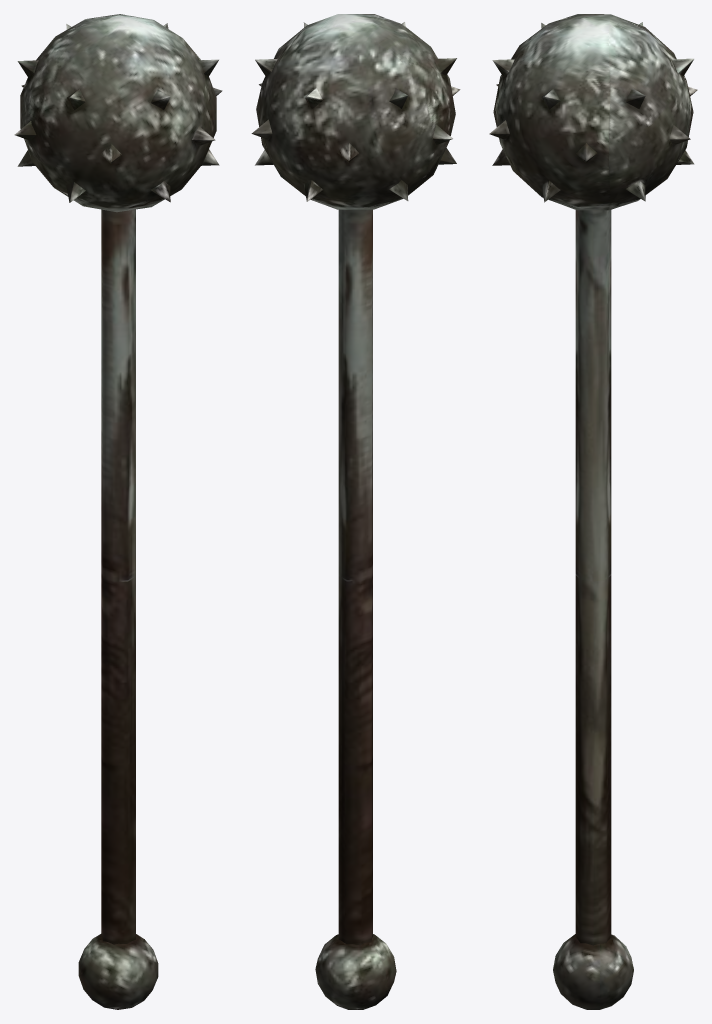
Rendered from weapon-evening-star.glb.
The picture shows the model from 3 angles, left to right: view 1: azimuth 30°, elevation 25°; view 2: azimuth 150°, elevation 25°; view 3: azimuth 270°, elevation 25°; orthographic projection.
Parts seen in each view (by area): view 1: babyKnightRisenClub_MDL_q; view 2: babyKnightRisenClub_MDL_q; view 3: babyKnightRisenClub_MDL_q.
Part boxes in pixels (x1,y1,x2,y2): babyKnightRisenClub_MDL_q: [14, 14, 222, 1009]; babyKnightRisenClub_MDL_q: [251, 14, 460, 1009]; babyKnightRisenClub_MDL_q: [489, 14, 697, 1009].
Bounding box in the file's own units: 0.5635 × 2.62 × 0.5049.
Materials: 1 (1 with a texture image).
